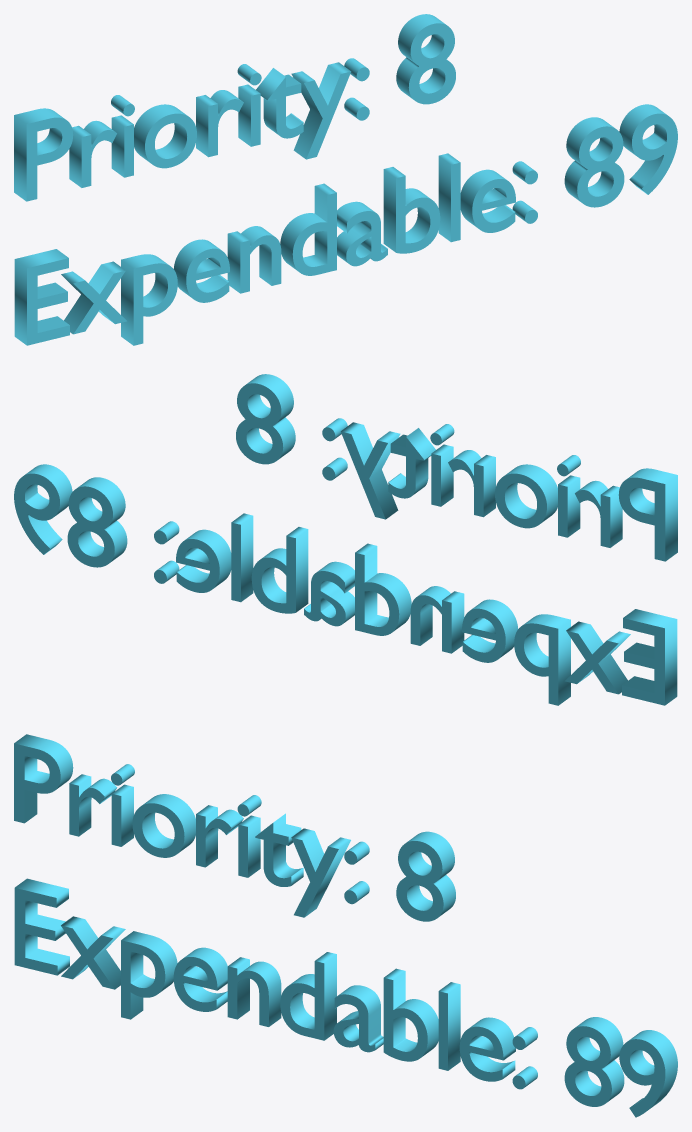
Rendered from console_test_004_result.fbx.
3 views of the same model, one above another, from view 1: azimuth 30°, elevation 25°; view 2: azimuth 150°, elevation 25°; view 3: azimuth 330°, elevation 25° (orthographic).
Parts seen in each view (by area): view 1: Txt_Test_01.024, Txt_Test_01.022; view 2: Txt_Test_01.024, Txt_Test_01.022; view 3: Txt_Test_01.024, Txt_Test_01.022.
Part boxes in pixels (x1,y1,x2,y2): Txt_Test_01.024: (14, 104, 677, 345); Txt_Test_01.022: (14, 14, 455, 201); Txt_Test_01.024: (14, 464, 677, 705); Txt_Test_01.022: (236, 374, 677, 561); Txt_Test_01.024: (14, 878, 677, 1117); Txt_Test_01.022: (14, 734, 455, 921).
Size of the model in its own units: 0.8096 by 0.2955 by 0.027.
